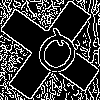Q: (25, 25, 85, 88)
